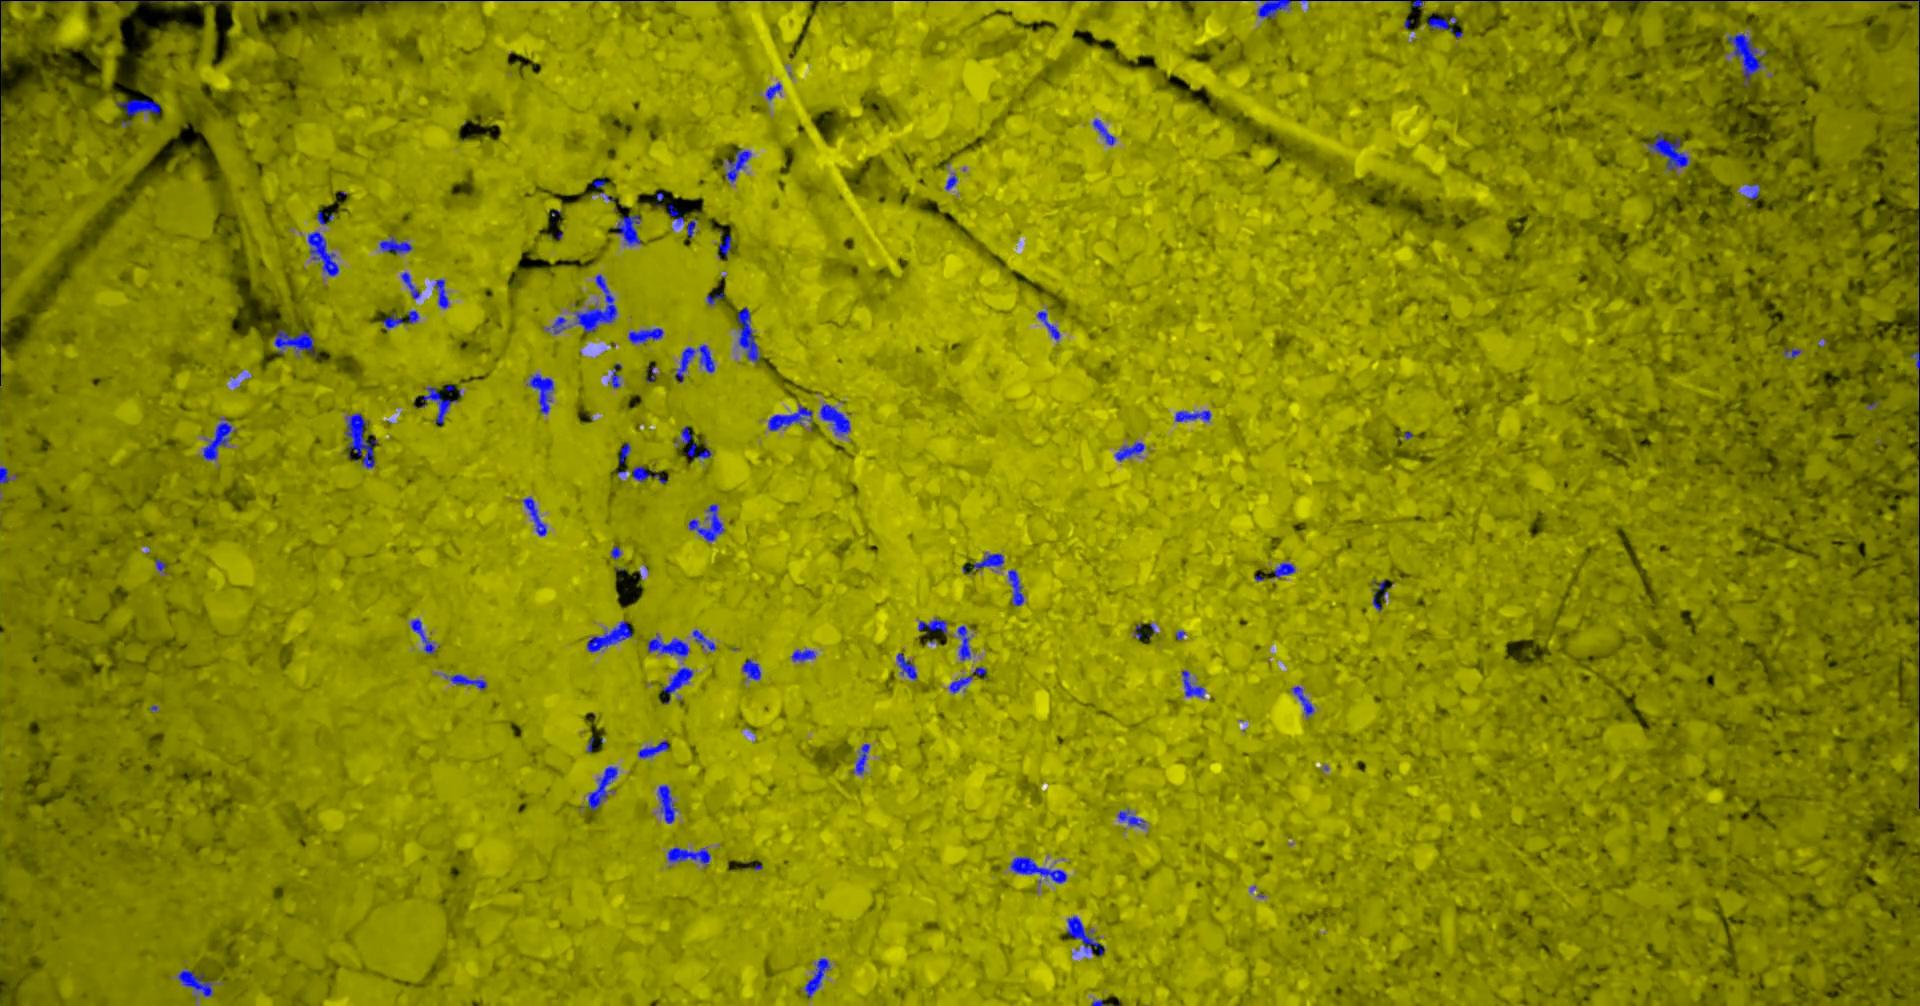ant: (571, 274, 617, 332), (1727, 33, 1761, 85), (345, 412, 376, 467), (1065, 915, 1103, 956), (1647, 132, 1688, 170), (1010, 856, 1065, 883), (676, 344, 714, 382), (585, 620, 631, 652), (202, 417, 235, 460), (307, 231, 338, 276), (422, 386, 457, 424), (587, 766, 617, 810), (688, 503, 723, 541), (737, 307, 759, 361), (767, 404, 811, 431), (116, 99, 160, 124), (274, 329, 316, 356), (662, 667, 692, 702), (804, 958, 830, 997), (949, 666, 985, 694), (681, 426, 711, 459), (177, 969, 212, 997), (648, 633, 688, 657), (528, 373, 552, 413), (522, 495, 546, 535), (819, 404, 850, 434), (410, 619, 434, 653), (615, 213, 640, 245), (725, 150, 750, 180), (657, 784, 676, 823), (1427, 15, 1462, 37), (665, 847, 709, 864), (1181, 669, 1205, 697), (1036, 310, 1059, 339), (1291, 686, 1313, 716), (381, 310, 418, 328), (1257, 0, 1291, 18), (631, 465, 665, 483), (1007, 569, 1023, 605), (444, 674, 486, 688), (1092, 119, 1115, 145), (1114, 442, 1144, 461), (637, 739, 668, 758), (1117, 808, 1145, 828), (378, 236, 411, 253), (627, 326, 663, 342), (400, 271, 419, 298), (897, 652, 916, 680), (971, 553, 1003, 569), (692, 629, 715, 650), (853, 743, 869, 774), (957, 625, 970, 661), (434, 278, 448, 307), (667, 203, 684, 226), (918, 619, 946, 633), (742, 658, 759, 680), (1175, 410, 1210, 420), (1272, 561, 1294, 578), (717, 231, 731, 257), (545, 316, 565, 333), (764, 83, 781, 100), (610, 363, 621, 387), (791, 649, 815, 661), (618, 442, 630, 464), (1910, 343, 1919, 370), (1743, 183, 1759, 198), (316, 210, 333, 224), (706, 291, 724, 304), (943, 175, 957, 191), (1783, 348, 1801, 359), (686, 218, 696, 238), (287, 0, 430, 1), (0, 466, 10, 484), (610, 545, 621, 559), (1917, 639, 1919, 711), (1917, 218, 1919, 285)
